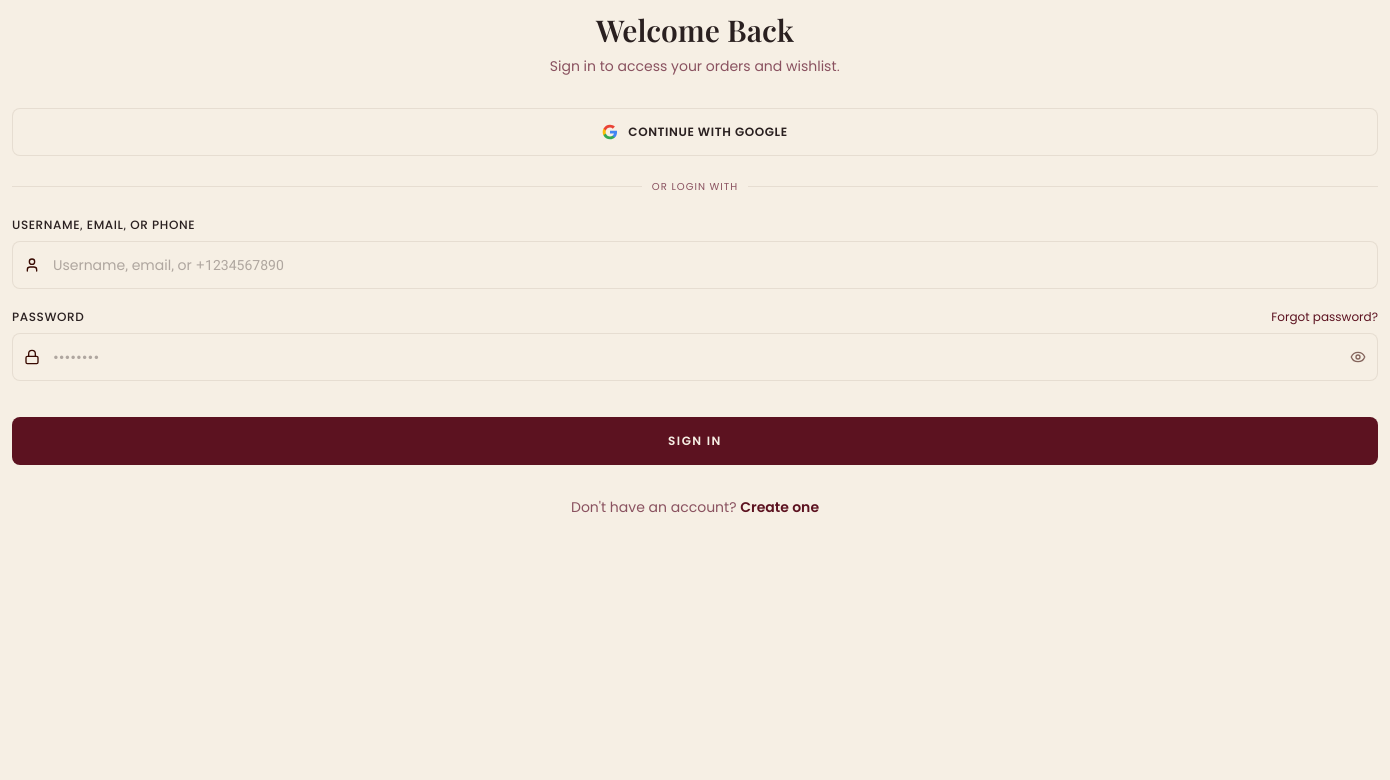
Test: LoginForm › handles and displays error message from Supabase auth
Type "test@example.com" into the field labelled "Username, Email, or Phone". click: (695, 265)
box: [12, 241, 1378, 289]
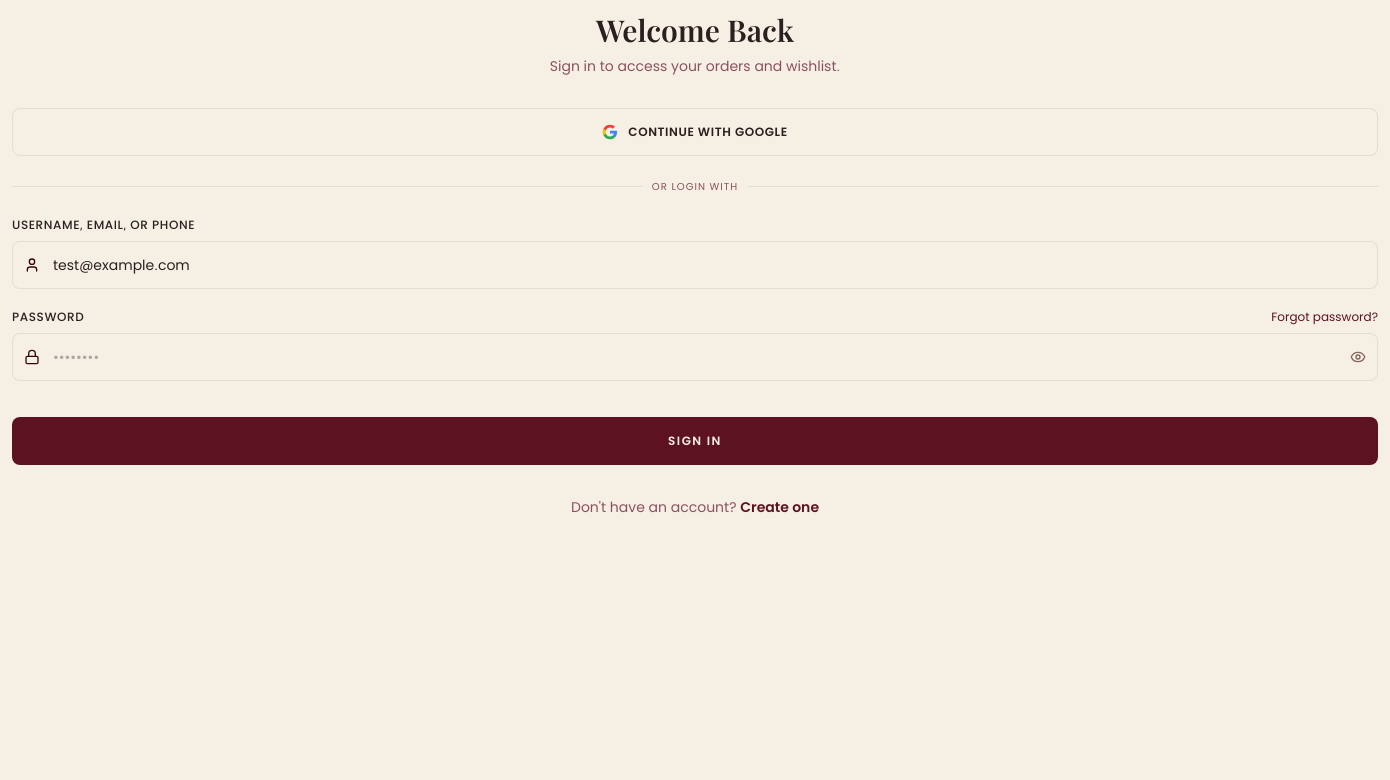
Type "wrong-password" into the password field labelled "Password". click: (695, 357)
box: [12, 333, 1378, 381]
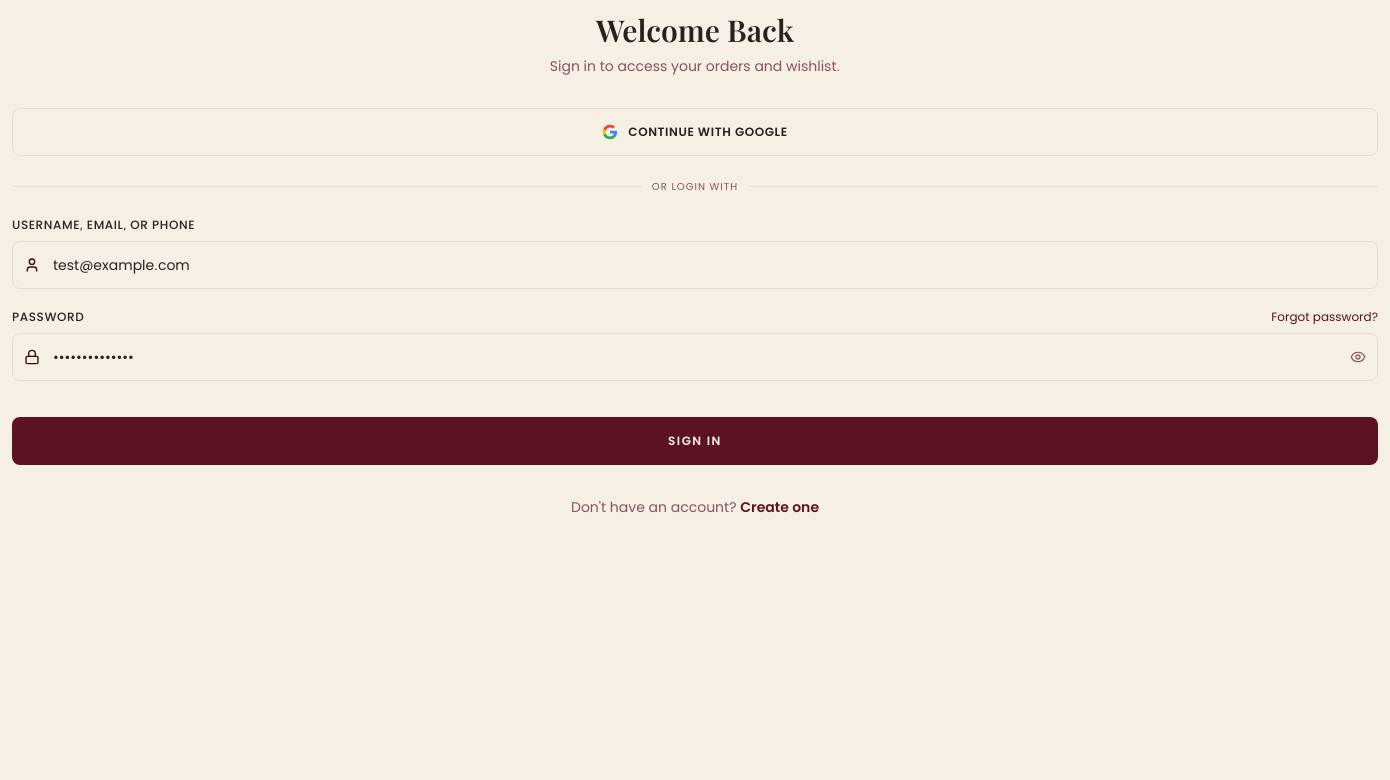
Click the button "Sign In". click: (695, 441)
box: [12, 417, 1378, 465]
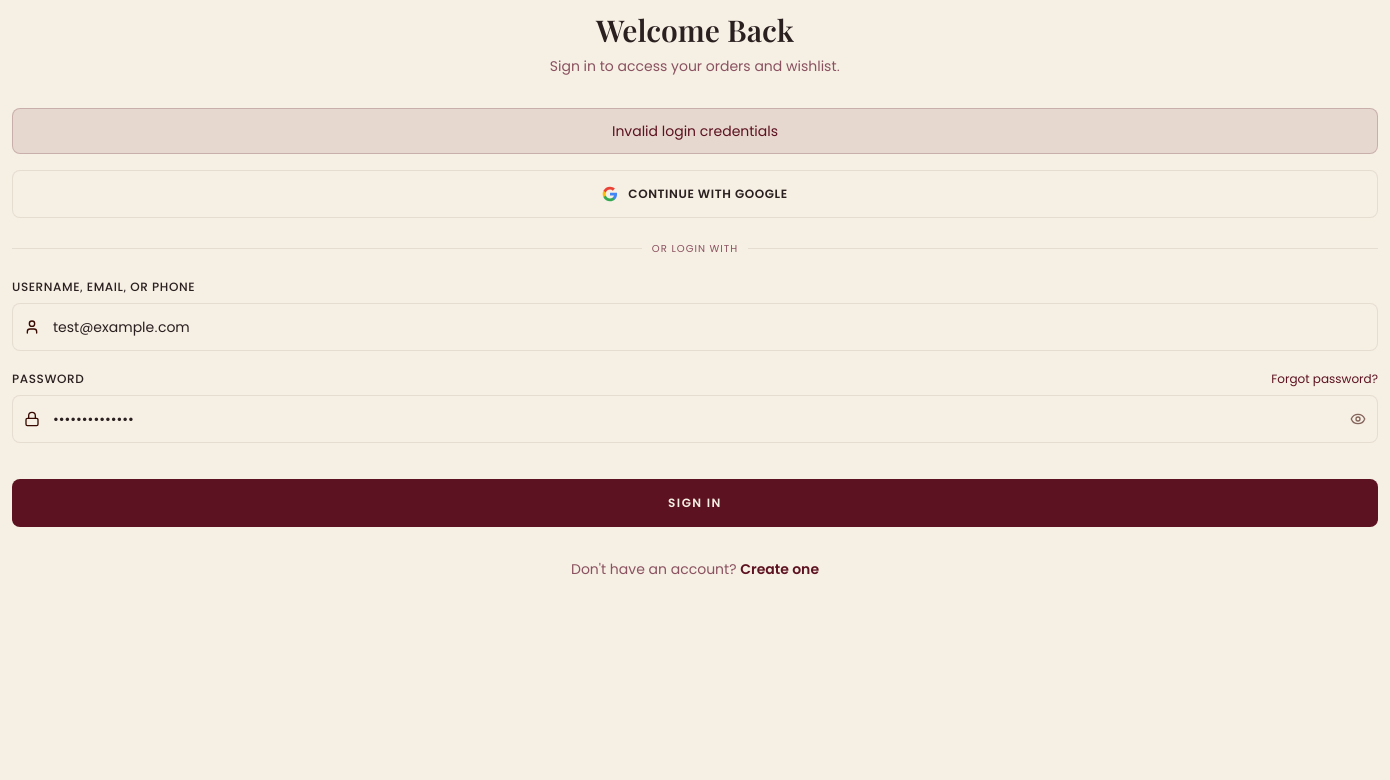
Result: the text "Invalid login credentials" is shown at [12, 108, 1378, 154]
